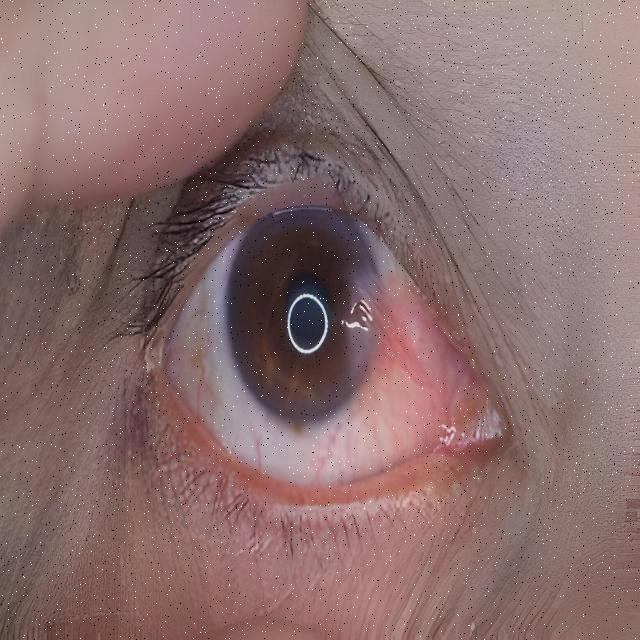Pterygium: (330, 242, 482, 452)
